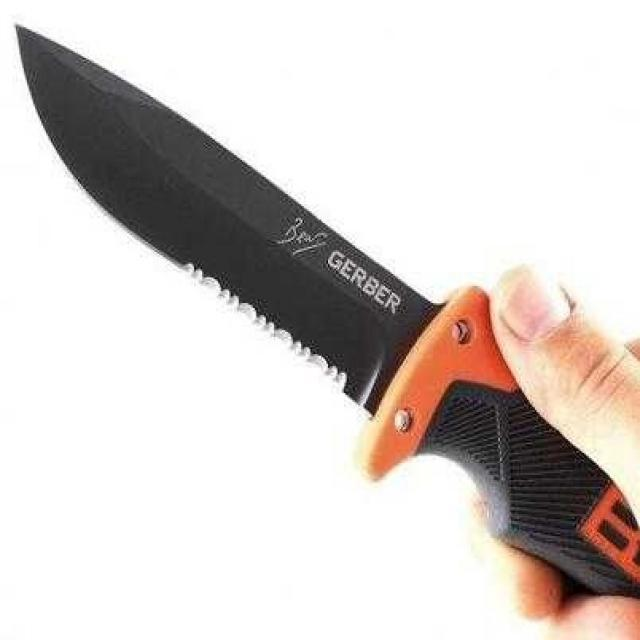Knife: (9, 21, 640, 601)
